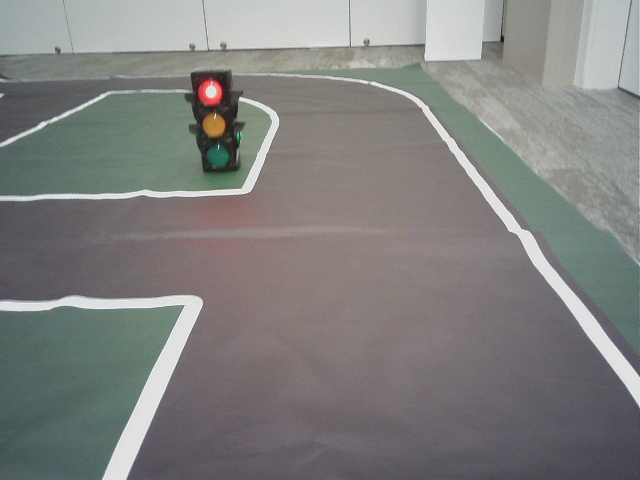red: (191, 75, 232, 166)
